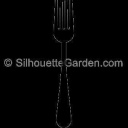fork: (44, 1, 84, 127)
